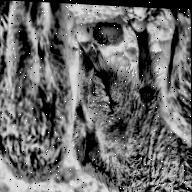boar: (72, 40, 192, 192)
